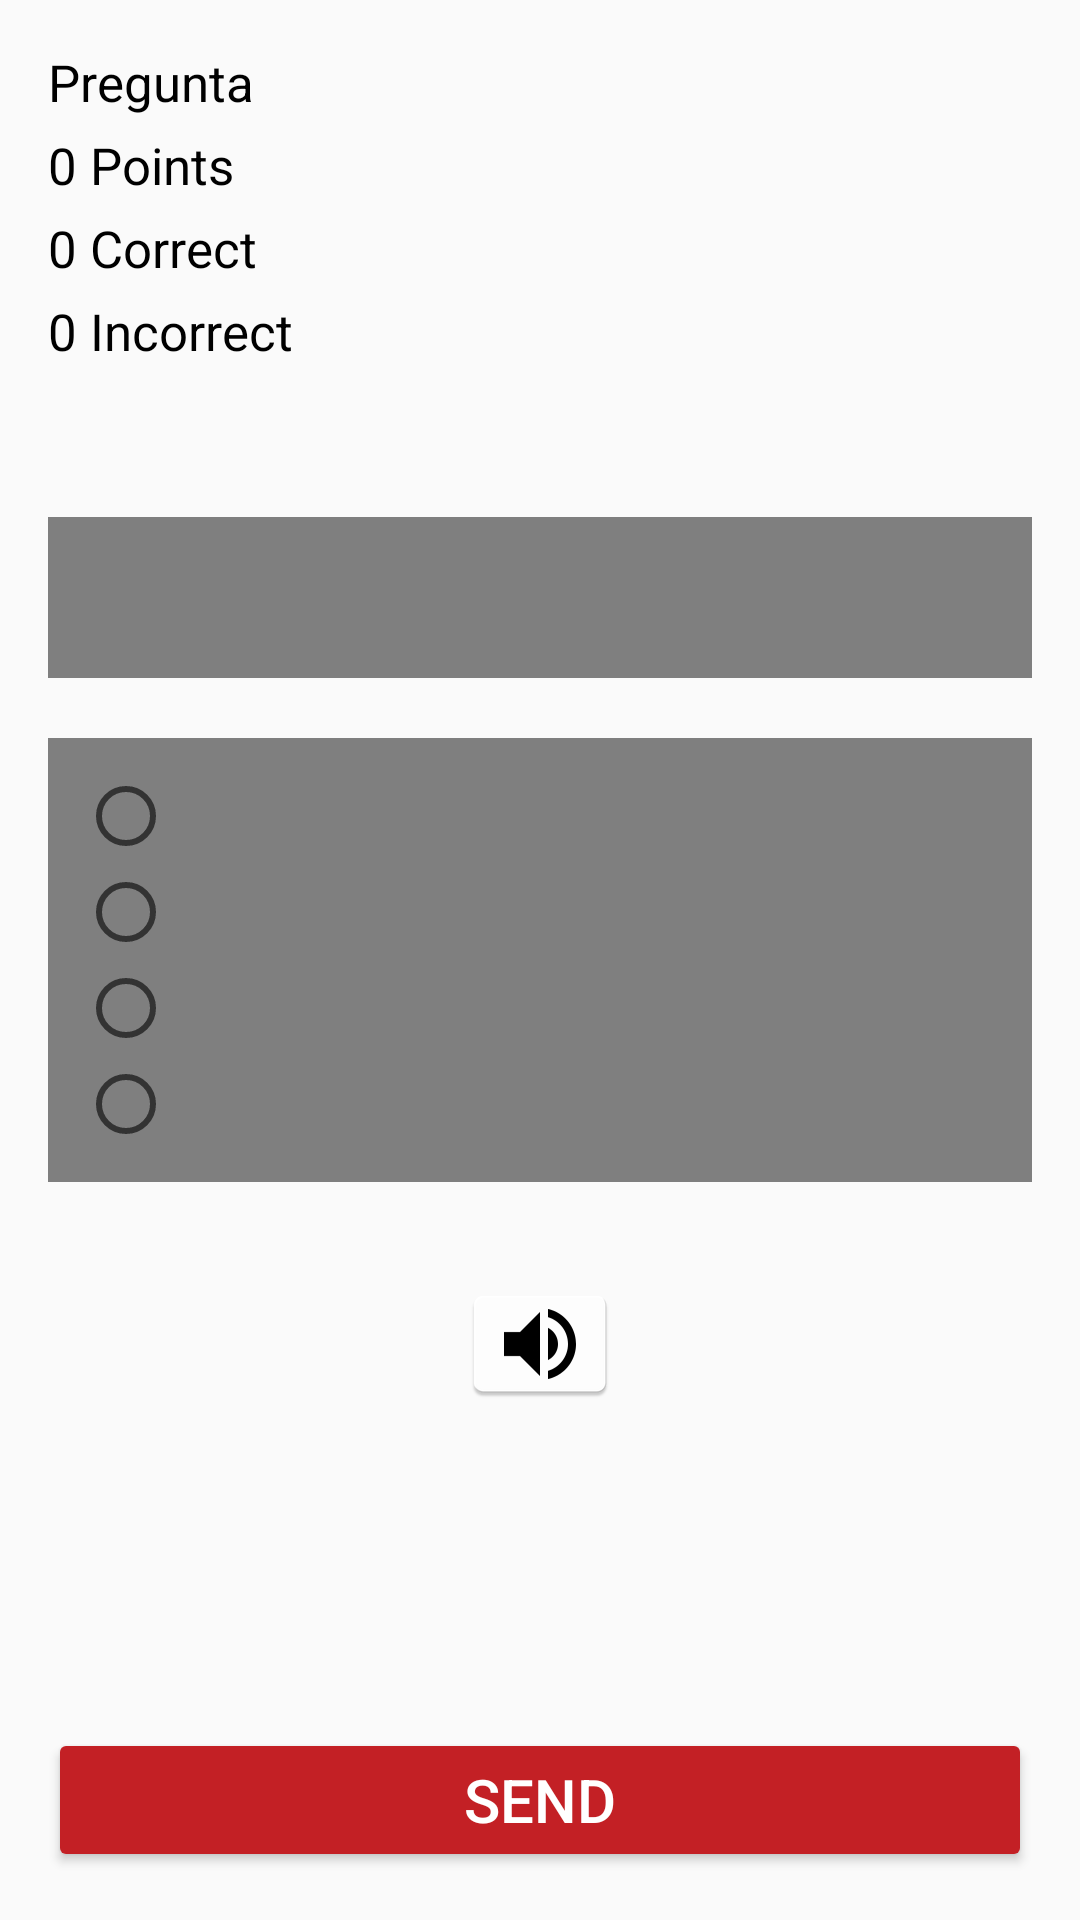

Where to tap for icons on this 1080w x 1920h app screen, as (x=x, y=y):
sound: (x=540, y=1349)
